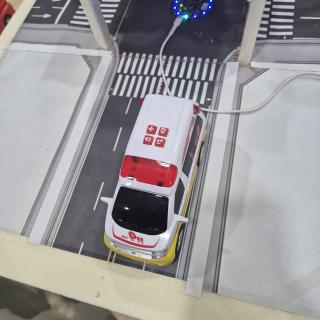Ambulance: (101, 94, 206, 265)
